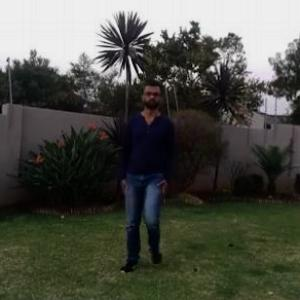follow: (121, 90, 170, 255)
